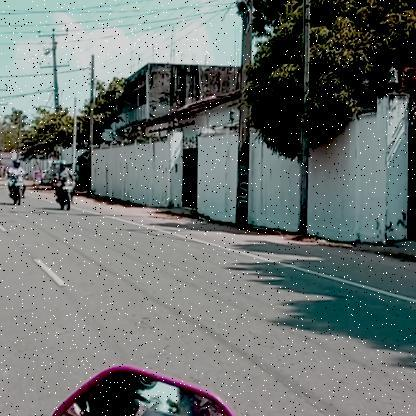motorcycle: (52, 176, 78, 214), (3, 172, 30, 208)
